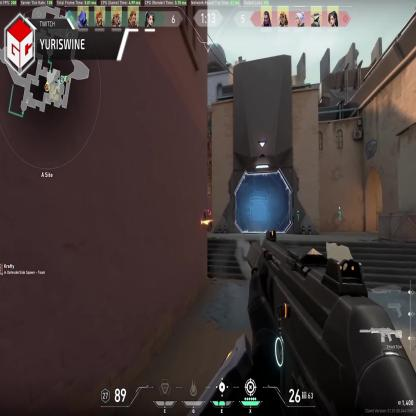enemy: (204, 206, 212, 233)
enemy_head: (207, 206, 210, 212)
